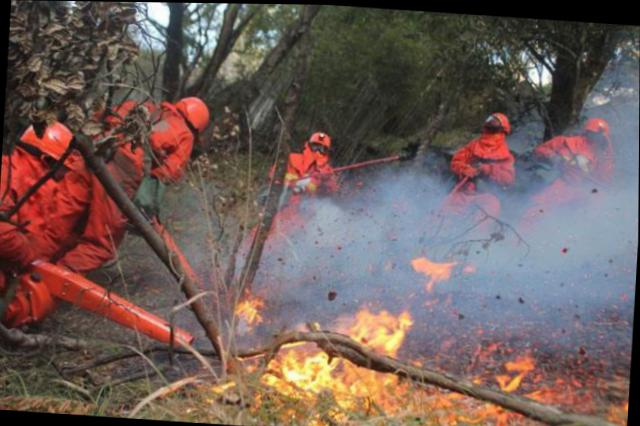fire: (221, 244, 625, 425)
